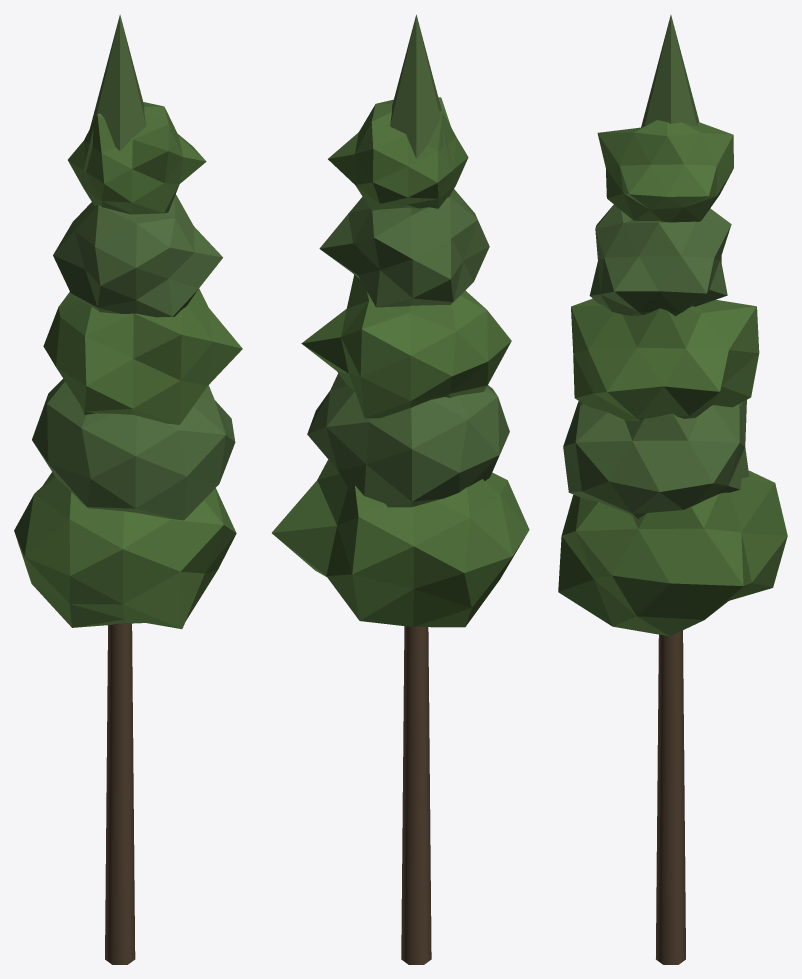
The model's file is land-forest-05.glb.
The picture shows the model from 3 angles, left to right: view 1: azimuth 30°, elevation 25°; view 2: azimuth 150°, elevation 25°; view 3: azimuth 270°, elevation 25°; orthographic projection.
Visible parts, largest first — view 1: land.forest.05; view 2: land.forest.05; view 3: land.forest.05.
Part boxes in pixels (bbox=[...]): land.forest.05: bbox=[14, 14, 242, 964]; land.forest.05: bbox=[272, 14, 529, 964]; land.forest.05: bbox=[558, 15, 787, 964].
Size of the model in its own units: 1.57 by 6.91 by 1.52.
